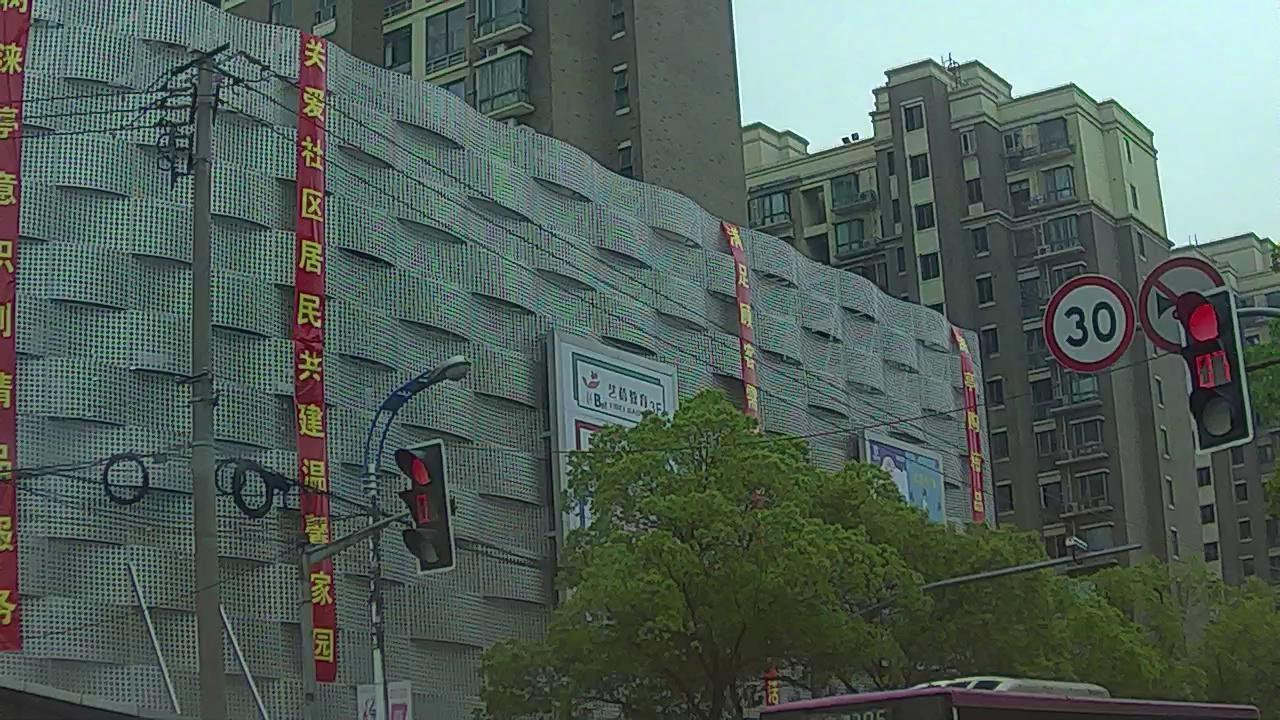traffic_light: (1181, 293, 1250, 445), (408, 446, 453, 566)
